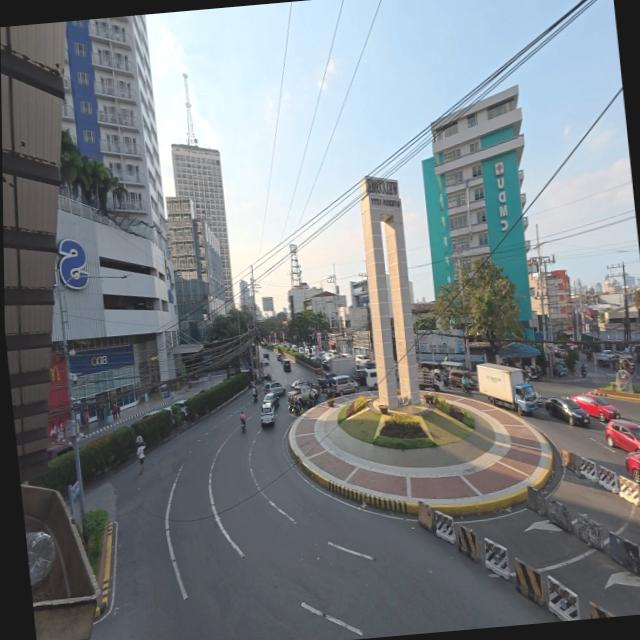car: (563, 391, 618, 428)
